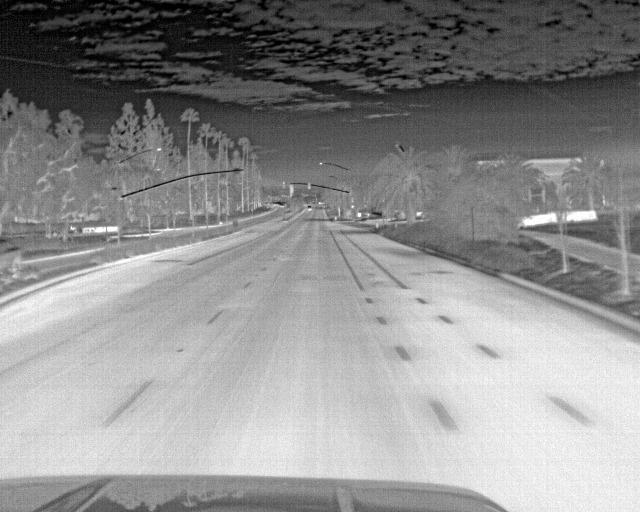car: (0, 237, 23, 279)
